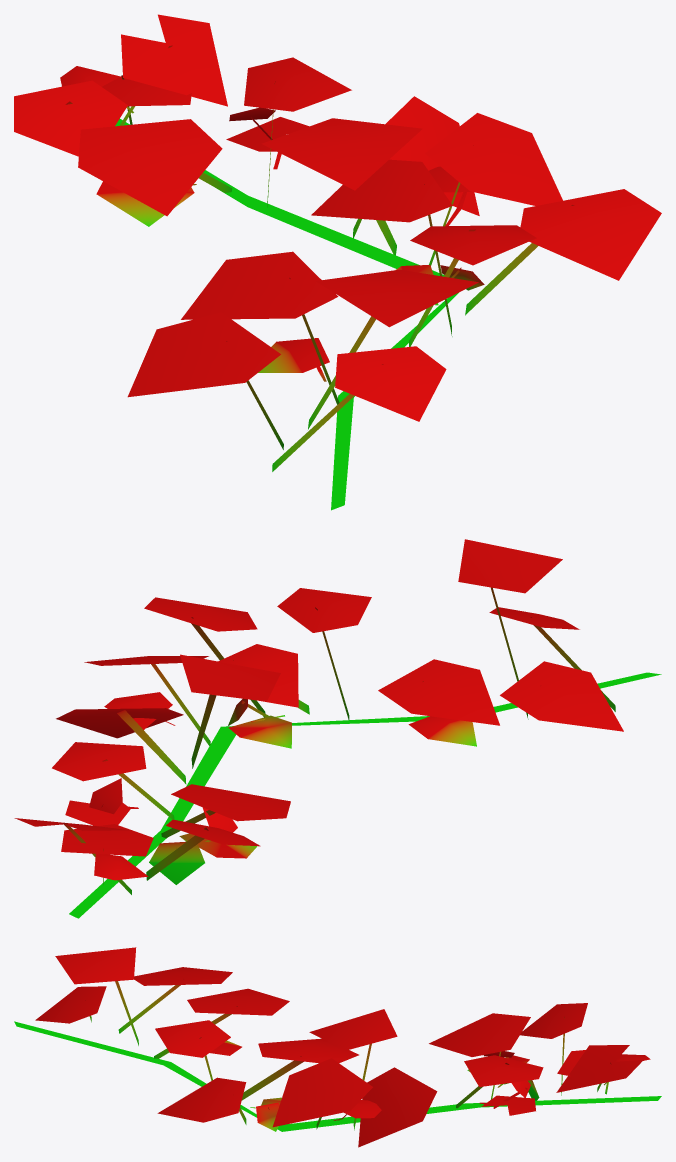
Rendered from Var8_LOD4.fbx.
The picture shows the model from 3 angles, top to bottom: view 1: azimuth 30°, elevation 25°; view 2: azimuth 150°, elevation 25°; view 3: azimuth 270°, elevation 25°; orthographic projection. The views are drawn at different scales.
Parts seen in each view (by area): view 1: _g7pb_Var8_LOD4; view 2: _g7pb_Var8_LOD4; view 3: _g7pb_Var8_LOD4.
Boxes of the visible parts, x1,y1,x2,y2 form: _g7pb_Var8_LOD4: (14,14,661,510); _g7pb_Var8_LOD4: (14,539,661,918); _g7pb_Var8_LOD4: (14,947,661,1147).
Size of the model in its own units: 38.9 by 11.58 by 58.5.
